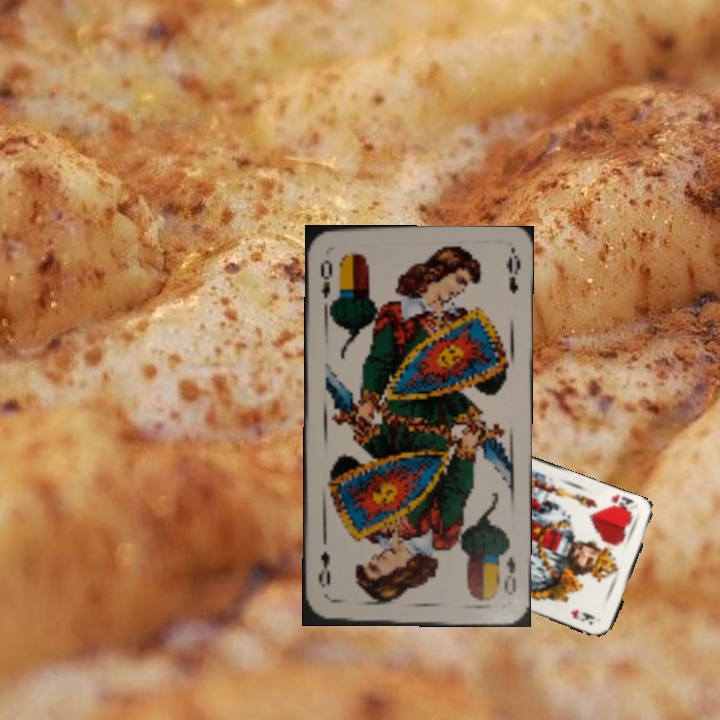EO: (499, 552, 518, 597), (317, 256, 335, 301)
HK: (604, 491, 636, 517)
